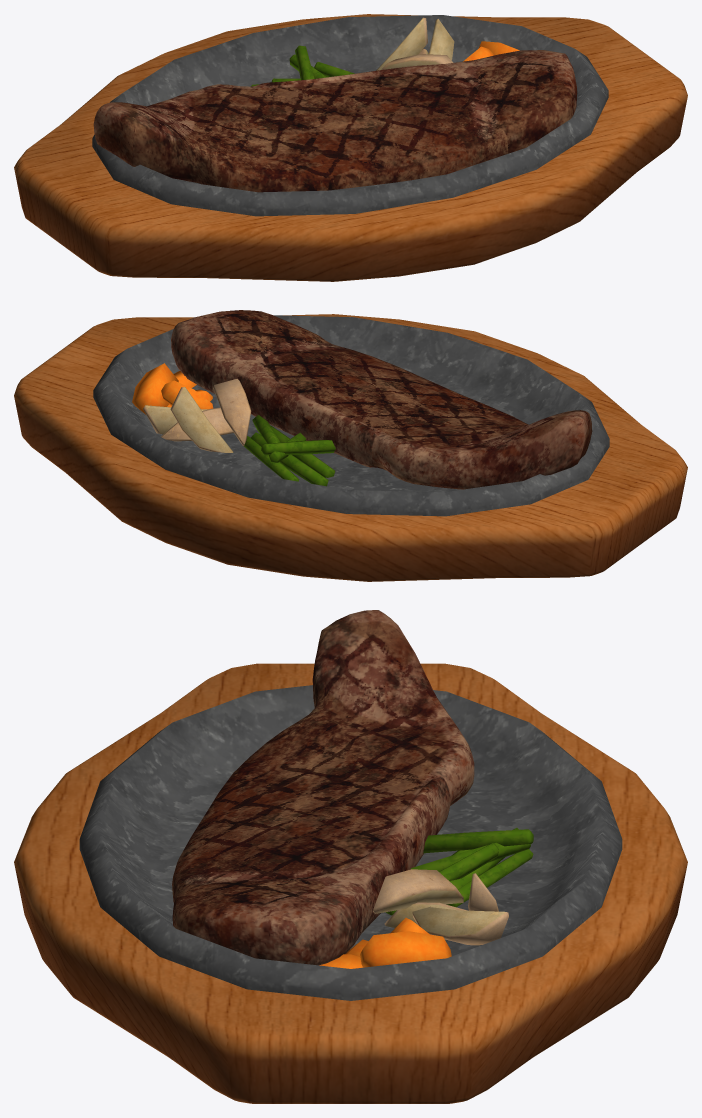
File: Stake_A.fbx
3 renders of one model, top to bottom at view 1: azimuth 30°, elevation 25°; view 2: azimuth 150°, elevation 25°; view 3: azimuth 270°, elevation 25°, orthographic. The views are drawn at different scales.
Parts seen in each view (by area): view 1: Stake_A; view 2: Stake_A; view 3: Stake_A.
Boxes of the visible parts, box(x1,y1,x2,y2) form: Stake_A: box(14, 14, 687, 281); Stake_A: box(14, 310, 687, 581); Stake_A: box(14, 610, 687, 1103).
Bounding box in the file's own units: 0.5697 × 0.1108 × 0.4253.
